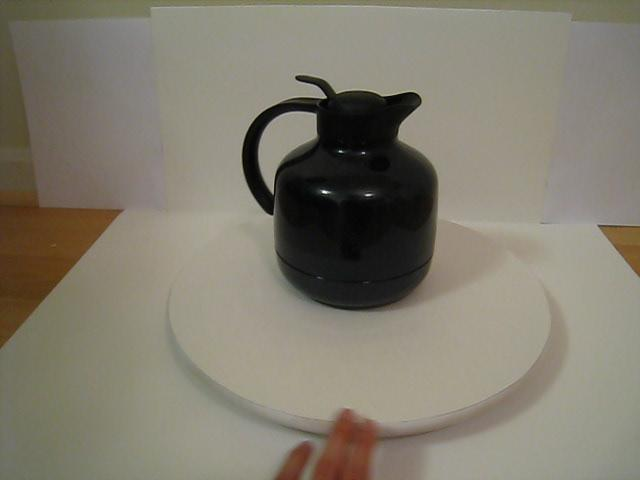pitcher: (239, 70, 449, 317)
